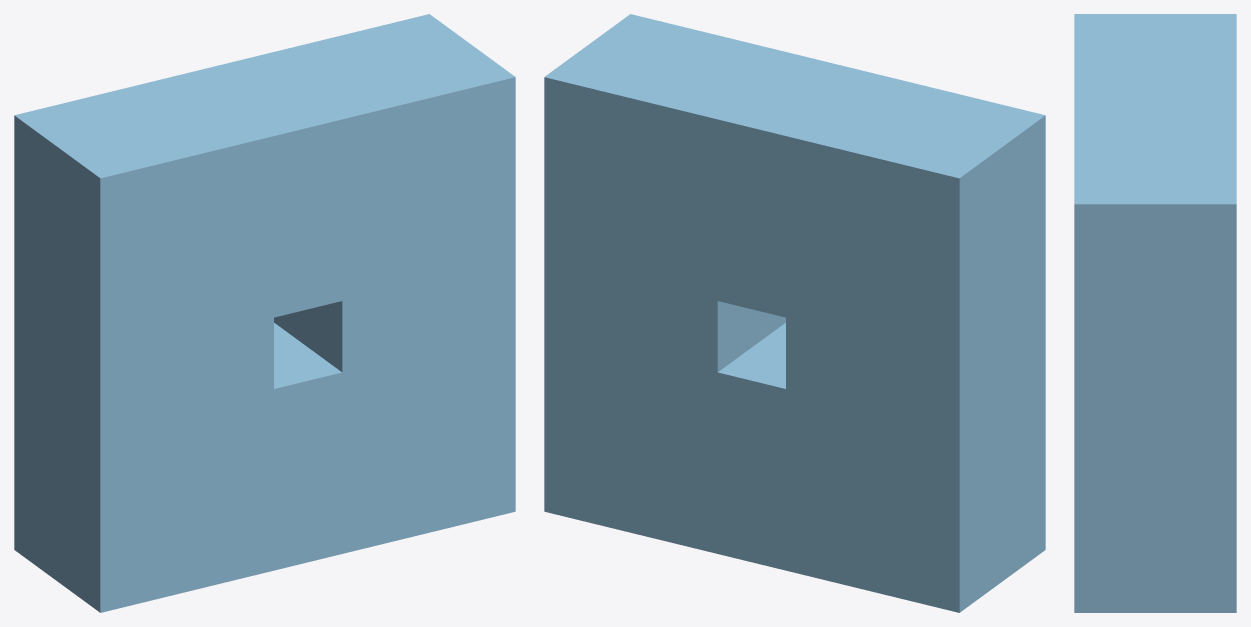
The model's file is factory_rectangular_hole_4mm_subdiv_3x.obj.
3 renders of one model, left to right at view 1: azimuth 30°, elevation 25°; view 2: azimuth 150°, elevation 25°; view 3: azimuth 270°, elevation 25°, orthographic. The views are drawn at different scales.
Visible parts, largest first — view 1: mesh4, mesh2, mesh1, mesh6, mesh9; view 2: mesh5, mesh2, mesh1, mesh6, mesh9; view 3: mesh0, mesh1.
Part boxes in pixels (x1,y1,x2,y2): mesh4: (100,77,515,612); mesh2: (14,115,100,612); mesh1: (15,14,515,178); mesh6: (274,301,342,371); mesh9: (274,323,341,388); mesh5: (544,77,959,612); mesh2: (959,115,1045,612); mesh1: (544,14,1044,178); mesh6: (717,301,785,371); mesh9: (718,323,785,388); mesh0: (1074,204,1236,612); mesh1: (1074,14,1236,204).
Bounding box in the file's own units: 0.025 × 0.025 × 0.00899.
